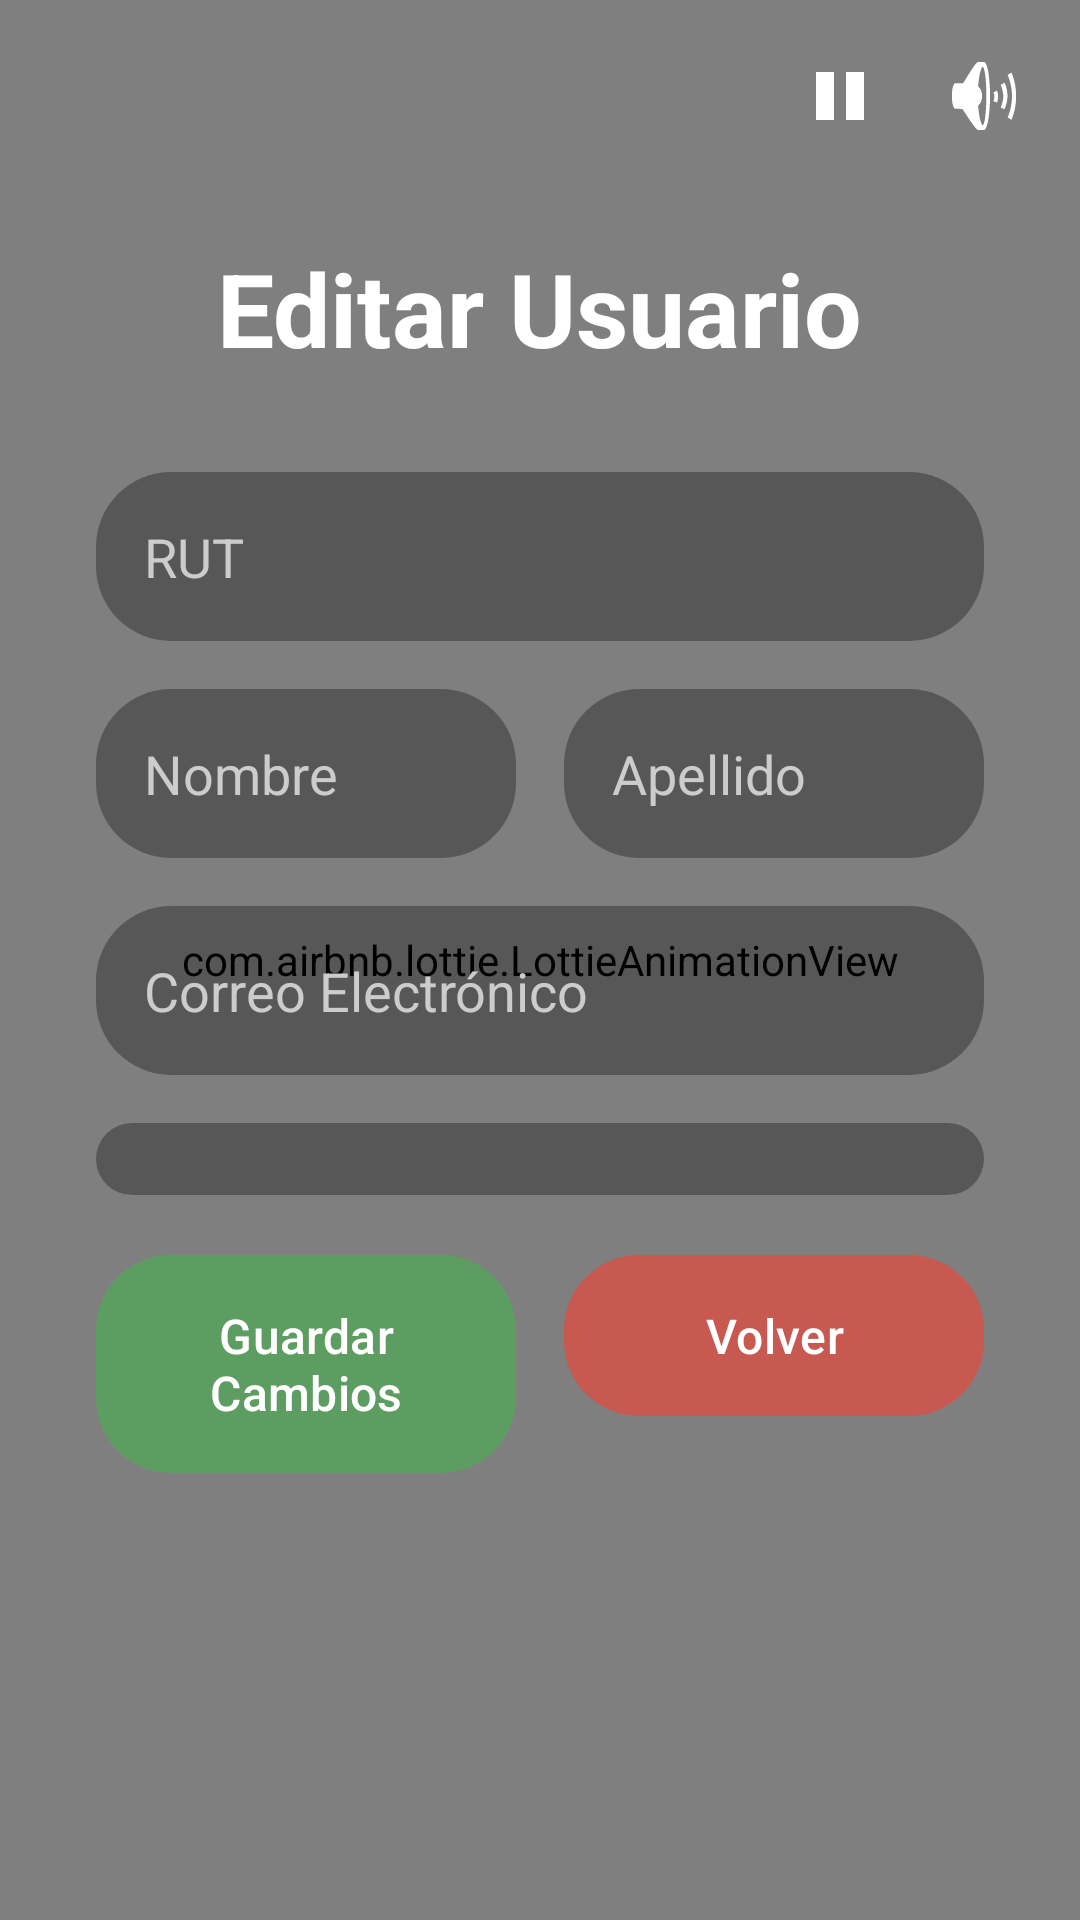

Where icons sit on this 1080 × 1920 app screen, as (x1, y1, x2, y2):
lock silent mode off: (952, 62, 1016, 130)
pause: (816, 72, 864, 120)
